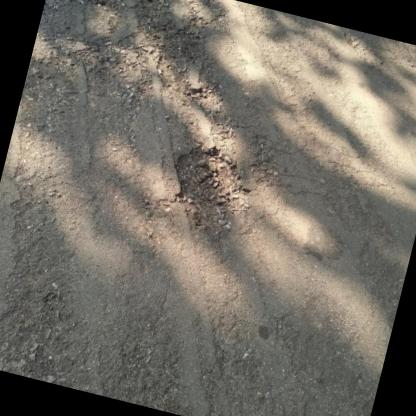pothole: (156, 140, 260, 238)
